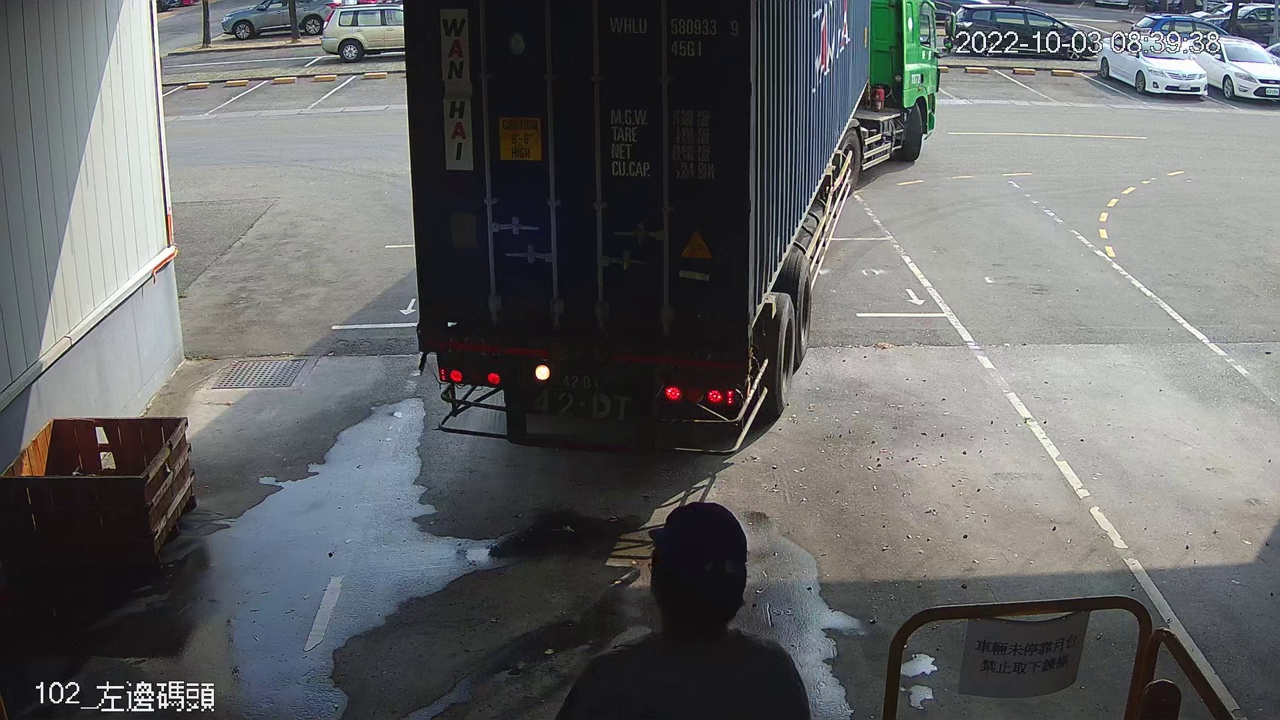container: (601, 8, 748, 63)
